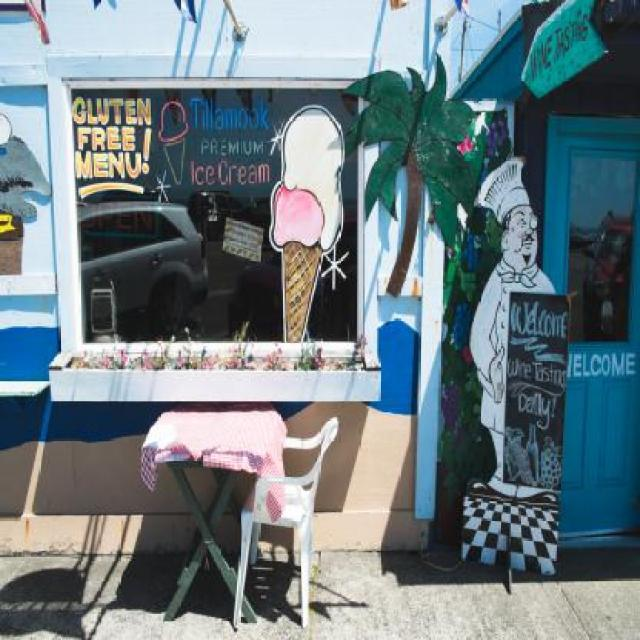Ice cream: (268, 100, 346, 260), (157, 96, 191, 186)
